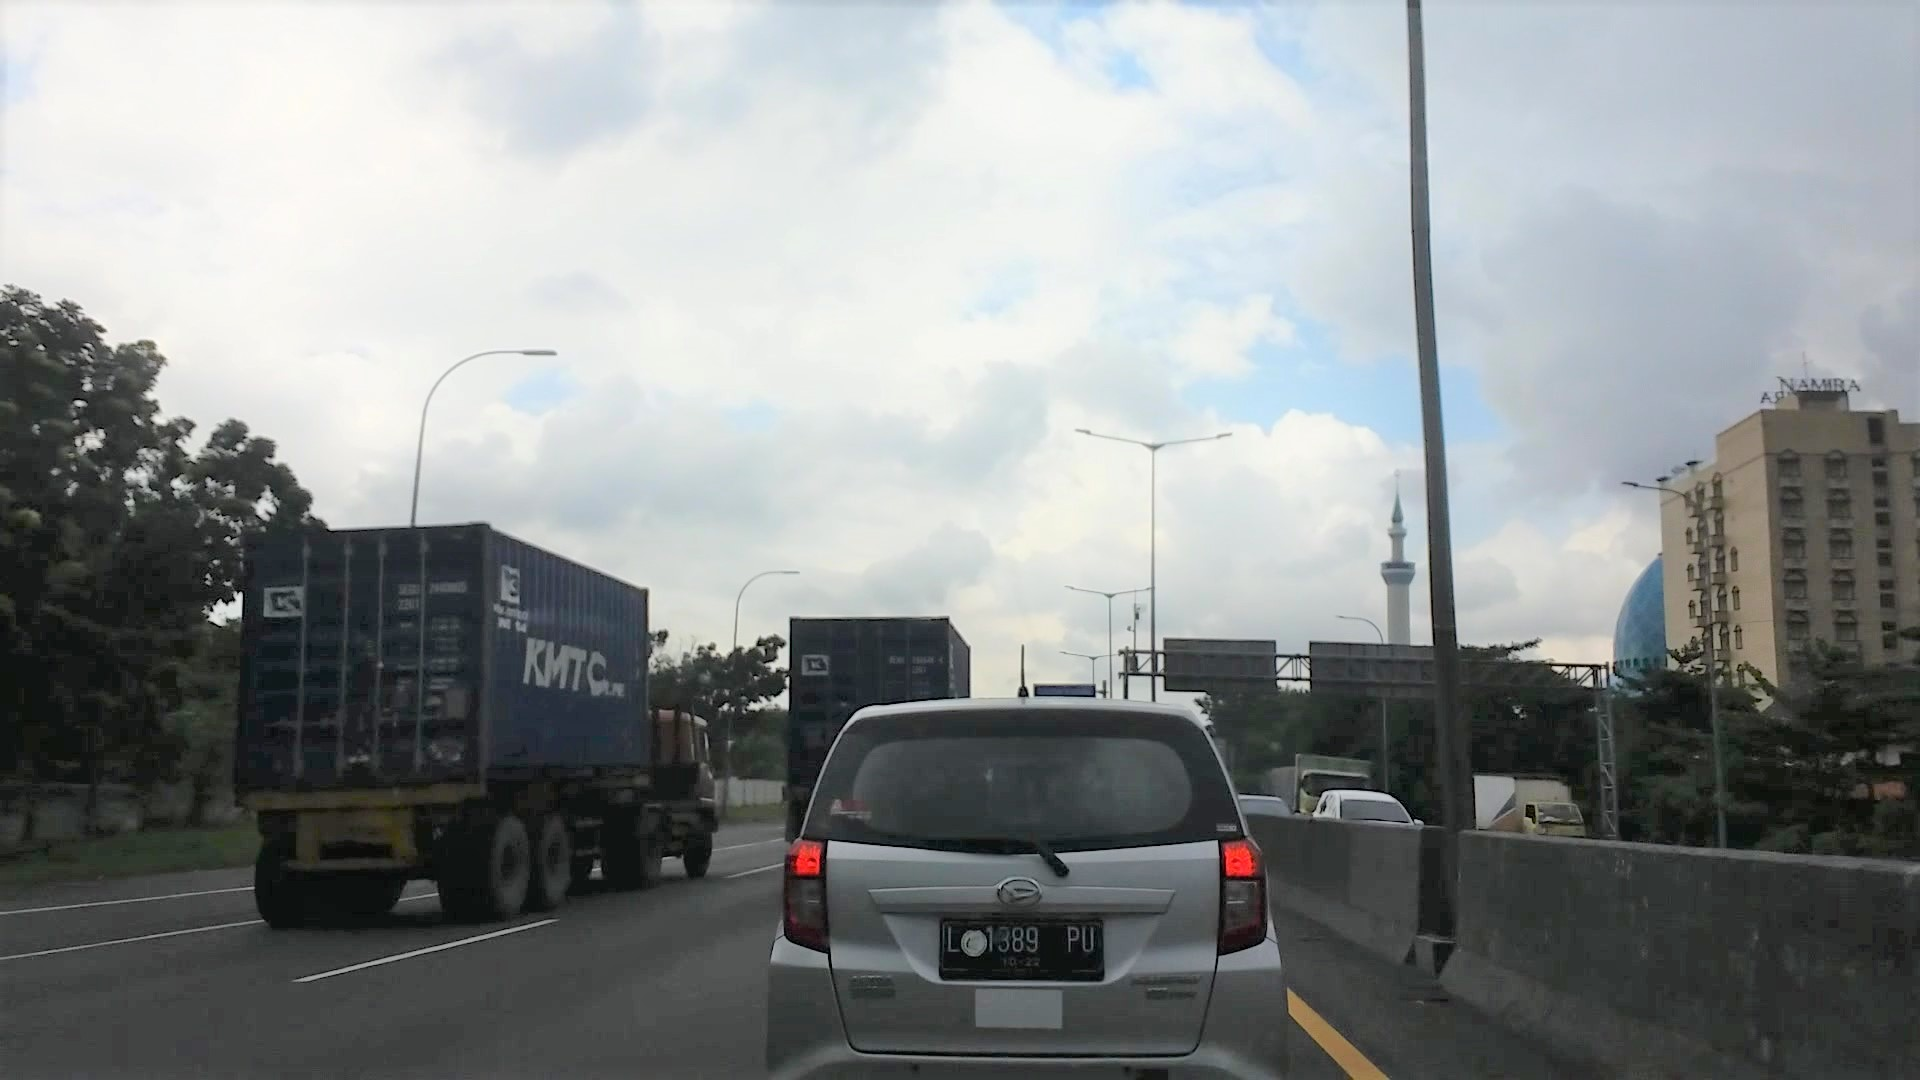plate_positive: (938, 916, 1105, 980)
